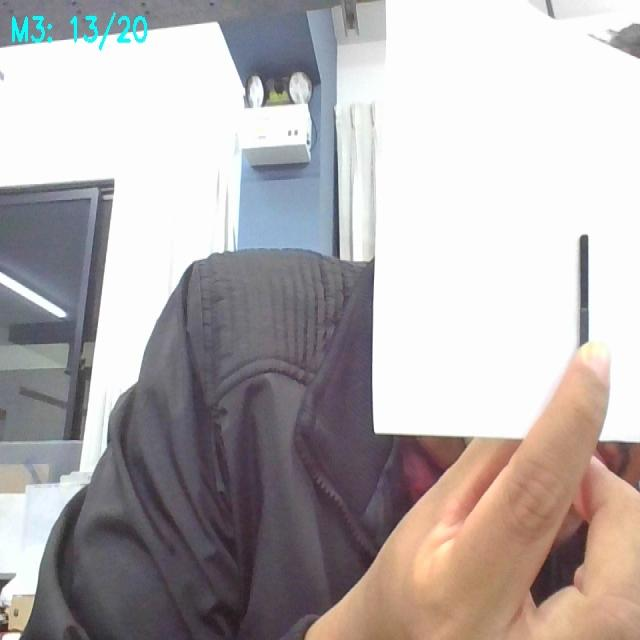vastago: (580, 237, 588, 340)
